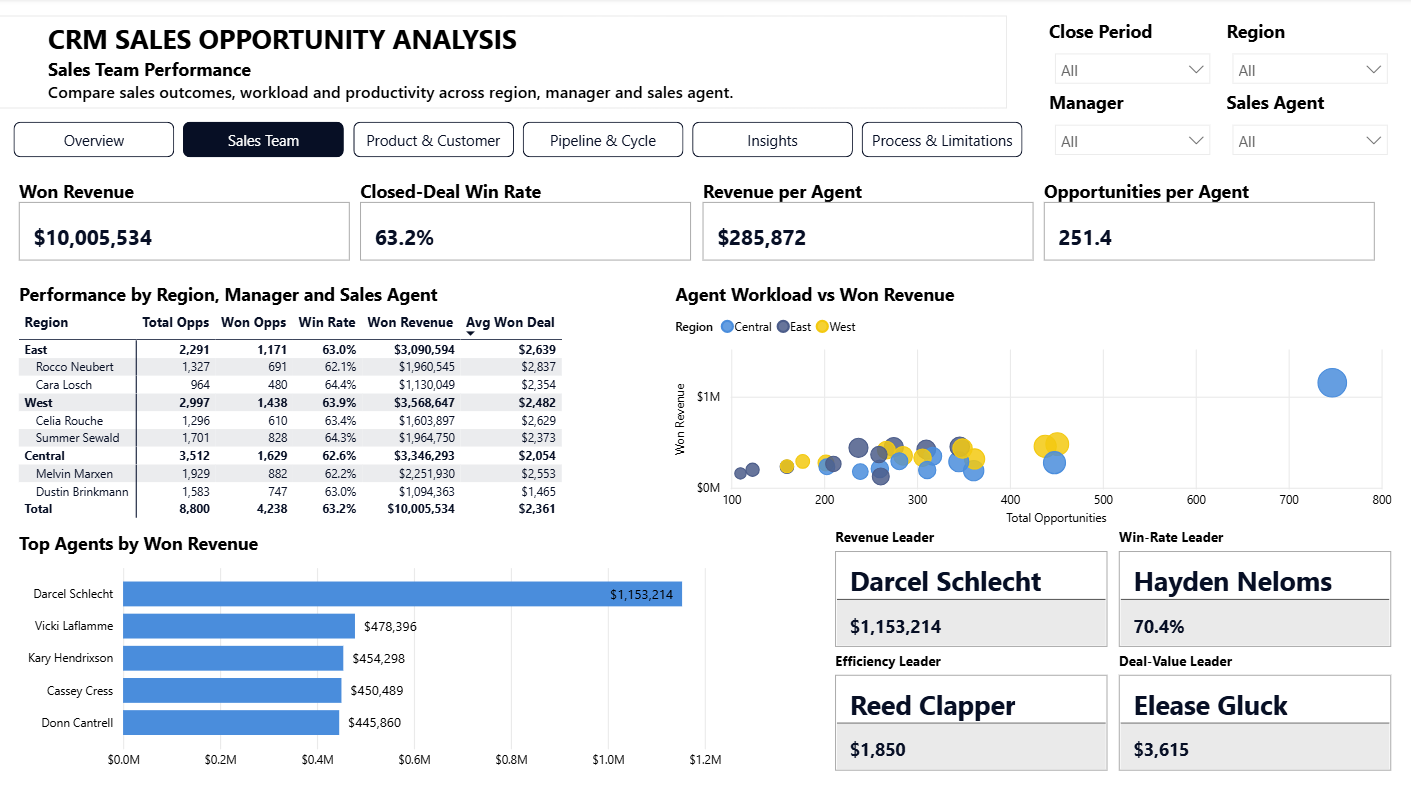

The dashboard page shown, as its layout file describes it:
{"tool":"powerbi","page":{"name":"Sales Team","canvas":[1280,720],"ordinal":5},"visuals":[{"type":"textbox","box":[0,16,912,84],"z":0},{"type":"cardVisual","title":"Revenue Leader","fields":{"Data":["_Measures.Revenue Leader Name"]},"box":[752,478,256,112],"z":0,"group":"g3"},{"type":"pageNavigator","box":[16,112,912,32],"z":1000},{"type":"cardVisual","title":"Win-Rate Leader","fields":{"Data":["_Measures.Win Rate Leader Name"]},"box":[1008,478,256,112],"z":1000,"group":"g3"},{"type":"group","id":"g1","title":"Group 2","box":[944,18,320,128],"z":2000},{"type":"slicer","title":"Close Period","fields":{"Values":["dim_date.Month Year"]},"box":[944,18,160,64],"z":2000,"group":"g1"},{"type":"cardVisual","title":"Deal-Value Leader","fields":{"Data":["_Measures.Deal Value Leader Name"]},"box":[1008,590,256,112],"z":2000,"group":"g3"},{"type":"slicer","title":"Region","fields":{"Values":["dim_sales_teams.regional_office"]},"box":[1104,18,160,64],"z":3000,"group":"g1"},{"type":"group","id":"g2","title":"Group 1","box":[16,162,1232,80],"z":3000},{"type":"cardVisual","title":"Efficiency Leader","fields":{"Data":["_Measures.Efficiency Leader Name"]},"box":[752,590,256,112],"z":3000,"group":"g3"},{"type":"slicer","title":"Manager","fields":{"Values":["dim_sales_teams.manager"]},"box":[944,82,160,64],"z":4000,"group":"g1"},{"type":"pivotTable","title":"Performance by Region, Manager and Sales Agent","fields":{"Rows":["dim_sales_teams.regional_office","dim_sales_teams.manager","dim_sales_teams.sales_agent"],"Values":["_Measures.Total Opportunities","_Measures.Won Opportunities","_Measures.Closed-Deal Win Rate","_Measures.Won Revenue","_Measures.Average Won Deal Value"]},"box":[16,256,576,224],"z":4000},{"type":"slicer","title":"Sales Agent","fields":{"Values":["dim_sales_teams.sales_agent"]},"box":[1104,82,160,64],"z":5000,"group":"g1"},{"type":"scatterChart","title":"Agent Workload vs Won Revenue","fields":{"Category":["dim_sales_teams.sales_agent"],"Series":["dim_sales_teams.regional_office"],"Size":["_Measures.Won Opportunities"],"X":["_Measures.Total Opportunities"],"Y":["_Measures.Won Revenue"]},"box":[608,256,656,224],"z":5000},{"type":"cardVisual","title":"Won Revenue","fields":{"Data":["_Measures.Won Revenue"]},"box":[16,162,308,80],"z":6000,"group":"g2"},{"type":"clusteredBarChart","title":"Top Agents by Won Revenue","fields":{"Category":["dim_sales_teams.sales_agent"],"Y":["_Measures.Won Revenue"]},"box":[16,480,688,224],"z":6000},{"type":"cardVisual","title":"Closed-Deal Win Rate","fields":{"Data":["_Measures.Closed-Deal Win Rate"]},"box":[324,162,308,80],"z":7000,"group":"g2"},{"type":"group","id":"g3","title":"Group 3","box":[752,478,512,224],"z":7004},{"type":"cardVisual","title":"Revenue per Agent","fields":{"Data":["_Measures.Revenue per Agent"]},"box":[632,162,308,80],"z":8000,"group":"g2"},{"type":"cardVisual","title":"Opportunities per Agent","fields":{"Data":["_Measures.Opportunities per Agent"]},"box":[940,162,308,80],"z":9000,"group":"g2"}]}

Visuals, with their boxes in screenshot pixels (x1, y1, x2, y2), scaled from the page's 1280x720 canvas onto the 1411x791 screenshot:
textbox: [x1=0, y1=18, x2=1005, y2=110]
"Revenue Leader" cardVisual: [x1=829, y1=525, x2=1111, y2=648]
pageNavigator: [x1=18, y1=123, x2=1023, y2=158]
"Win-Rate Leader" cardVisual: [x1=1111, y1=525, x2=1393, y2=648]
"Group 2" group: [x1=1041, y1=20, x2=1393, y2=160]
"Close Period" slicer: [x1=1041, y1=20, x2=1217, y2=90]
"Deal-Value Leader" cardVisual: [x1=1111, y1=648, x2=1393, y2=771]
"Region" slicer: [x1=1217, y1=20, x2=1393, y2=90]
"Group 1" group: [x1=18, y1=178, x2=1376, y2=266]
"Efficiency Leader" cardVisual: [x1=829, y1=648, x2=1111, y2=771]
"Manager" slicer: [x1=1041, y1=90, x2=1217, y2=160]
"Performance by Region, Manager and Sales Agent" pivotTable: [x1=18, y1=281, x2=653, y2=527]
"Sales Agent" slicer: [x1=1217, y1=90, x2=1393, y2=160]
"Agent Workload vs Won Revenue" scatterChart: [x1=670, y1=281, x2=1393, y2=527]
"Won Revenue" cardVisual: [x1=18, y1=178, x2=357, y2=266]
"Top Agents by Won Revenue" clusteredBarChart: [x1=18, y1=527, x2=776, y2=773]
"Closed-Deal Win Rate" cardVisual: [x1=357, y1=178, x2=697, y2=266]
"Group 3" group: [x1=829, y1=525, x2=1393, y2=771]
"Revenue per Agent" cardVisual: [x1=697, y1=178, x2=1036, y2=266]
"Opportunities per Agent" cardVisual: [x1=1036, y1=178, x2=1376, y2=266]
